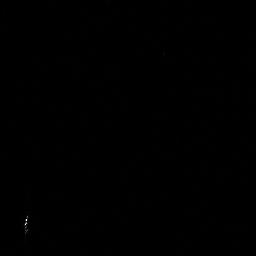ship: (22, 213, 30, 235)
